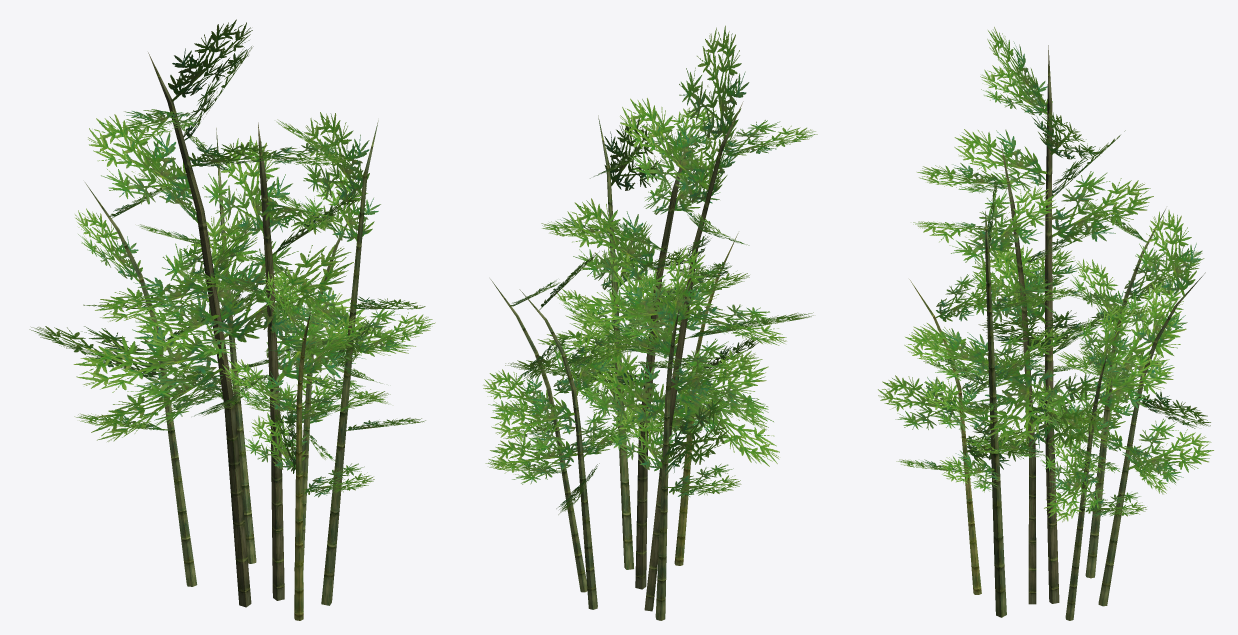
File: zhuzi_67.FBX
The picture shows the model from 3 angles, left to right: view 1: azimuth 30°, elevation 25°; view 2: azimuth 150°, elevation 25°; view 3: azimuth 270°, elevation 25°; orthographic projection. The views are drawn at different scales.
Visible parts, largest first — view 1: zhuzi_67; view 2: zhuzi_67; view 3: zhuzi_67.
Part boxes in pixels (x1,y1,x2,y2): zhuzi_67: [29, 19, 435, 620]; zhuzi_67: [483, 25, 817, 620]; zhuzi_67: [878, 27, 1213, 620].
Bounding box in the file's own units: 768 × 1361 × 799.
